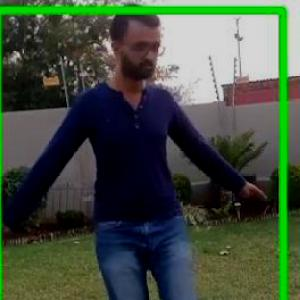land: (1, 17, 260, 299)
